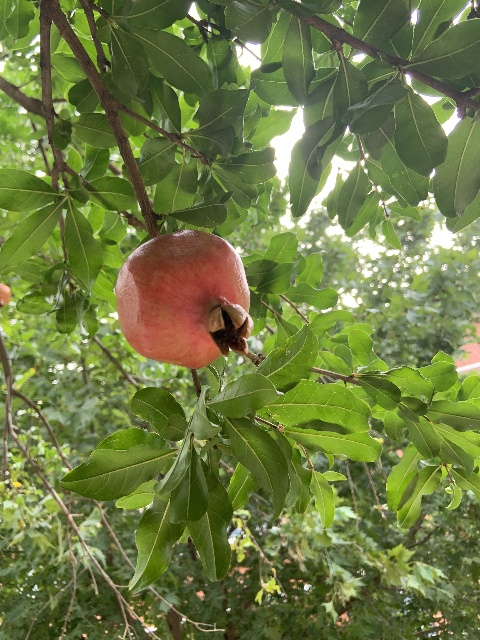ripe: (116, 230, 251, 367)
